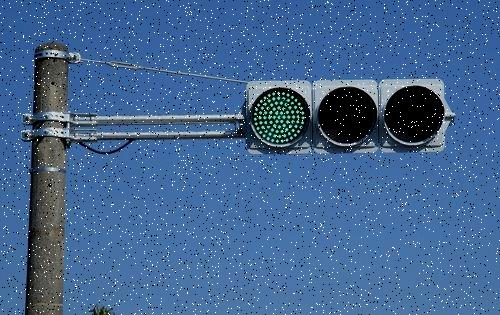cars: (245, 82, 443, 149)
